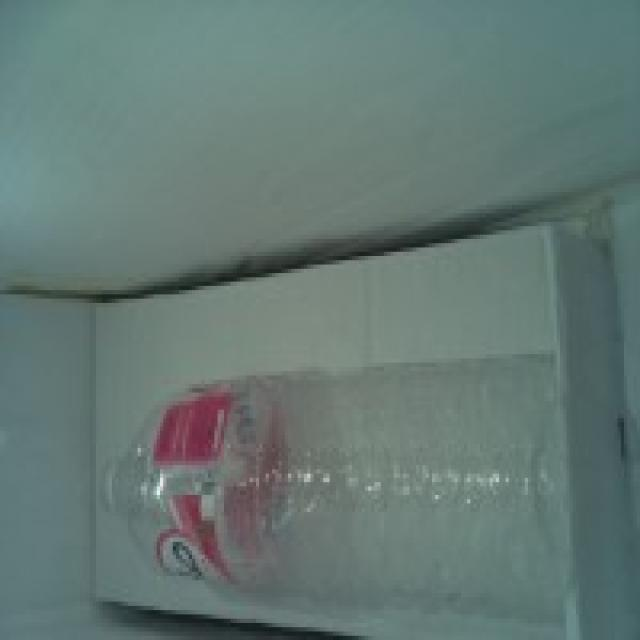Anorganik: (105, 350, 586, 627)
